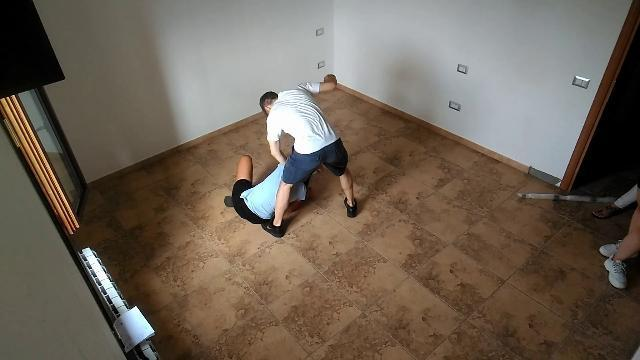non-violence: (598, 211, 640, 290)
violence: (225, 73, 357, 237)
